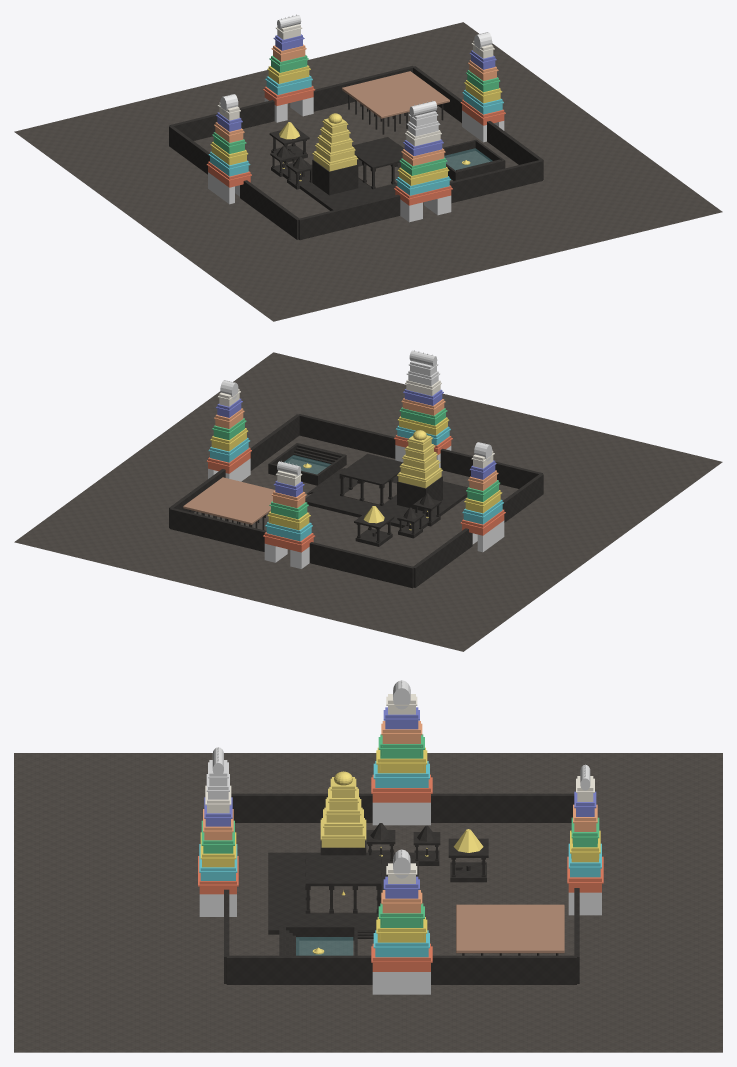
File: madurai_meenakshi_kshetra_full.glb
3 renders of one model, top to bottom at view 1: azimuth 30°, elevation 25°; view 2: azimuth 150°, elevation 25°; view 3: azimuth 270°, elevation 25°, orthographic. The views are drawn at different scales.
Visible parts, largest first — view 1: Ground_Main, Thousand_Pillar_Hall_Roof, Prakara_Meenakshi_S_L, Prakara_Meenakshi_S_R, Mandapa, Adhisthana_Platform, Prakara_Meenakshi_N_L, Prakara_Meenakshi_W_L, Prakara_Meenakshi_N_R, Garbhagriha, Prakara_Meenakshi_E_L, Prakara_Meenakshi_W_R (+9 smaller); view 2: Ground_Main, Adhisthana_Platform, Thousand_Pillar_Hall_Roof, Prakara_Meenakshi_N_L, Mandapa, Prakara_Meenakshi_S_R, Prakara_Meenakshi_N_R, Prakara_Meenakshi_S_L, Prakara_Meenakshi_W_R, Prakara_Meenakshi_E_L, Sundareshwarar_Shrine, Prakara_Meenakshi_W_L (+5 smaller); view 3: Ground_Main, Thousand_Pillar_Hall_Roof, Adhisthana_Platform, Mandapa, Prakara_Meenakshi_E_L, Prakara_Meenakshi_E_R, Prakara_Meenakshi_W_R, Prakara_Meenakshi_W_L, Sundareshwarar_Shrine, West_Raja_Gopuram_Gateway_Jamb_R, East_Raja_Gopuram_Gateway_Jamb_R, Potramarai_Kulam_Wall_W (+16 smaller).
Part boxes in pixels (box(x1,y1,x2,y2)): Ground_Main: box(14, 22, 722, 321); Thousand_Pillar_Hall_Roof: box(342, 71, 449, 118); Prakara_Meenakshi_S_L: box(298, 194, 400, 239); Prakara_Meenakshi_S_R: box(449, 160, 542, 203); Mandapa: box(352, 137, 403, 189); Adhisthana_Platform: box(282, 143, 404, 210); Prakara_Meenakshi_N_L: box(169, 100, 274, 140); Prakara_Meenakshi_W_L: box(240, 180, 298, 239); Prakara_Meenakshi_N_R: box(313, 66, 414, 111); Garbhagriha: box(312, 159, 358, 195); Prakara_Meenakshi_E_L: box(487, 121, 543, 179); Prakara_Meenakshi_W_R: box(169, 126, 209, 174); Ground_Main: box(14, 352, 722, 651); Adhisthana_Platform: box(305, 460, 467, 528); Thousand_Pillar_Hall_Roof: box(183, 477, 275, 524); Prakara_Meenakshi_N_L: box(309, 542, 413, 588); Mandapa: box(339, 453, 403, 505); Prakara_Meenakshi_S_R: box(298, 414, 395, 458); Prakara_Meenakshi_N_R: box(169, 508, 266, 551); Prakara_Meenakshi_S_L: box(440, 448, 542, 488); Prakara_Meenakshi_W_R: box(413, 528, 472, 587); Prakara_Meenakshi_E_L: box(250, 414, 299, 470); Sundareshwarar_Shrine: box(354, 506, 394, 546); Prakara_Meenakshi_W_L: box(502, 473, 543, 522); Ground_Main: box(14, 753, 722, 1052); Thousand_Pillar_Hall_Roof: box(456, 904, 564, 953); Adhisthana_Platform: box(268, 852, 418, 934); Mandapa: box(305, 855, 381, 913); Prakara_Meenakshi_E_L: box(226, 955, 372, 984); Prakara_Meenakshi_E_R: box(431, 955, 576, 984); Prakara_Meenakshi_W_R: box(431, 793, 574, 822); Prakara_Meenakshi_W_L: box(231, 793, 372, 822); Sundareshwarar_Shrine: box(448, 829, 488, 882); West_Raja_Gopuram_Gateway_Jamb_R: box(372, 802, 430, 825); East_Raja_Gopuram_Gateway_Jamb_R: box(372, 972, 430, 994); Potramarai_Kulam_Wall_W: box(281, 925, 355, 940).
Bounding box in the file's own units: 85 × 19.8 × 85.
23 materials, 3 textured.
